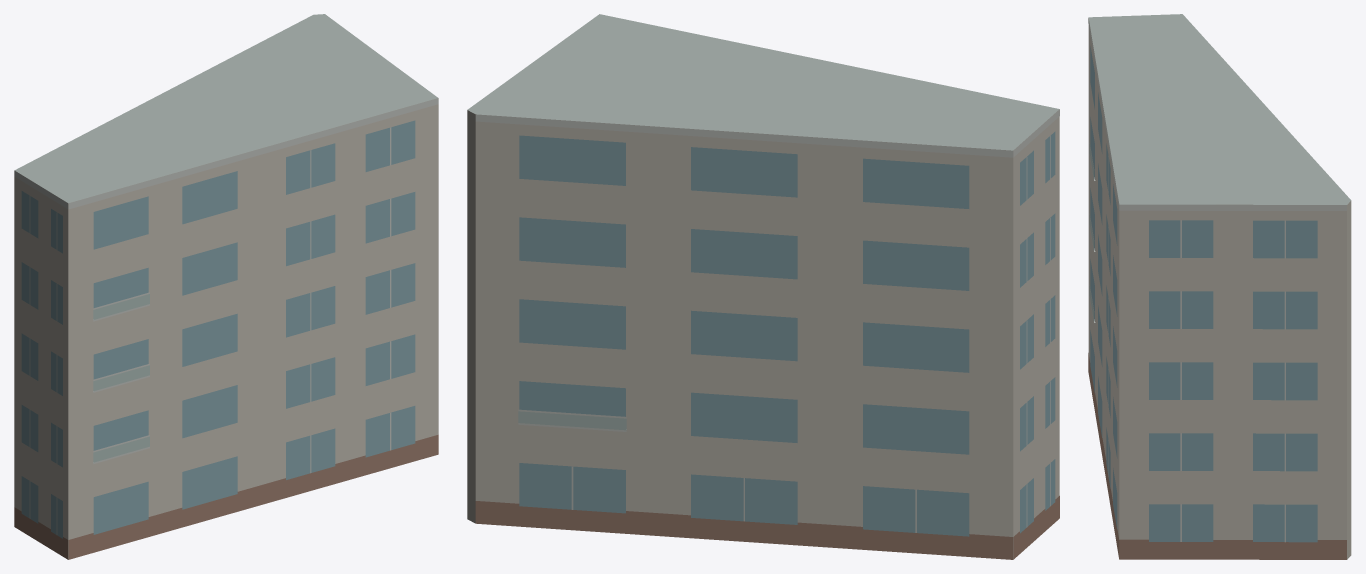
Rendered from survey-upis-32718190.glb.
3 renders of one model, left to right at view 1: azimuth 30°, elevation 25°; view 2: azimuth 150°, elevation 25°; view 3: azimuth 270°, elevation 25°, orthographic. The views are drawn at different scales.
Visible parts, largest first — view 1: survey-upis-32718190.tmp; view 2: survey-upis-32718190.tmp; view 3: survey-upis-32718190.tmp.
Part boxes in pixels (x1,y1,x2,y2): survey-upis-32718190.tmp: (14, 14, 438, 559); survey-upis-32718190.tmp: (467, 14, 1059, 559); survey-upis-32718190.tmp: (1088, 14, 1351, 559).
Bounding box in the file's own units: 16.16 × 14 × 9.41.
